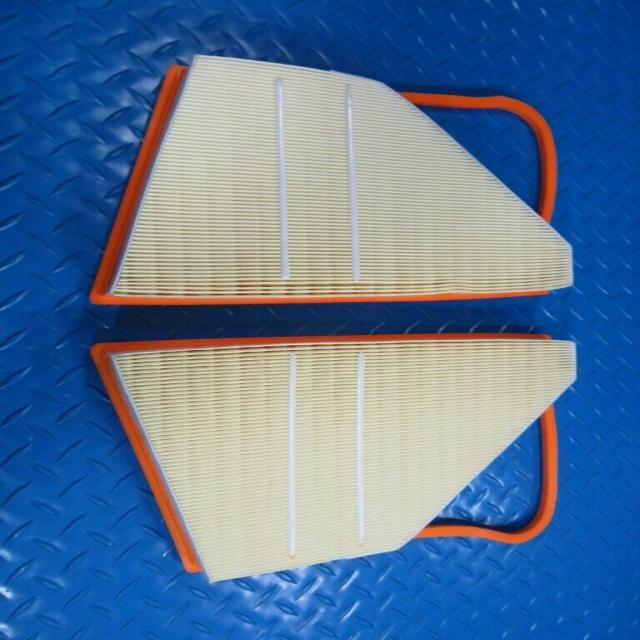air_filter: (87, 327, 583, 586), (86, 48, 578, 304)
